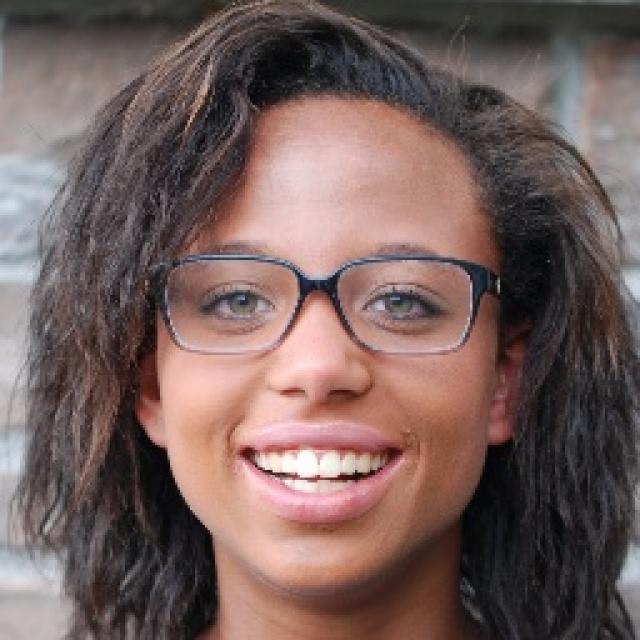earlobe: (136, 396, 168, 448), (484, 400, 520, 446)
eye: (368, 285, 438, 324), (207, 290, 266, 324)
nose: (266, 382, 368, 418)
wholeear: (484, 297, 546, 446), (126, 312, 168, 448)
